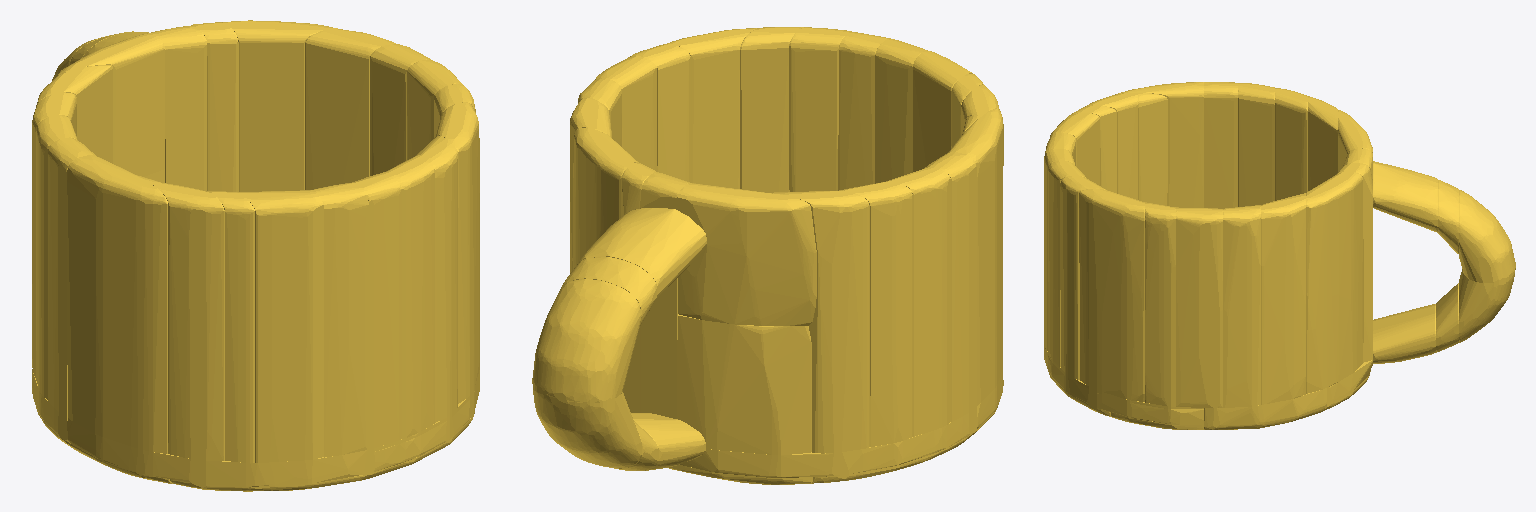
robot.urdf — 4.urdf:
<?xml version="1.0" ?>
<robot name="4.urdf">
	<link name="baseLink">
		<inertial>
			<origin rpy="0 0 0" xyz="0 0 0"/>
				<mass value="0.1"/>
				<inertia ixx="6e-5" ixy="0" ixz="0" iyy="6e-5" iyz="0" izz="6e-5"/>
		</inertial>
		<visual>
			<origin rpy="0 0 0" xyz="0 0 0"/>
			<geometry>
				<mesh filename="4_decom_wt.obj" scale="0.8 0.8 0.5"/>
			</geometry>
			<material name="yellow">
				<color rgba="0.98 0.84 0.35 1"/>
			</material>
		</visual>
		<collision>
			<origin rpy="0 0 0" xyz="0 0 0"/>
			<geometry>
				<mesh filename="4_decom_wt.obj" scale="0.8 0.8 0.5"/>
			</geometry>
		</collision>
	</link>
</robot>

--- What the picture shows (computed from the rendered views, not written in the file) ---
3 views of the same robot in one strip: view 1: azimuth 30°, elevation 25°; view 2: azimuth 150°, elevation 25°; view 3: azimuth 270°, elevation 25° (orthographic).
Model 4.urdf with 1 links and 0 joints (none), rooted at baseLink, posed every joint at zero.
Links seen in each view (by area): view 1: baseLink; view 2: baseLink; view 3: baseLink.
Boxes of the visible links, x1,y1,x2,y2 form: baseLink: (32, 20, 479, 491); baseLink: (532, 27, 1003, 484); baseLink: (1044, 82, 1515, 429).
Size in the robot's own frame: 0.0674 by 0.0963 by 0.049 metres.
Meshes: 1 distinct files referenced, 1 mesh visuals loaded (1 OBJ).